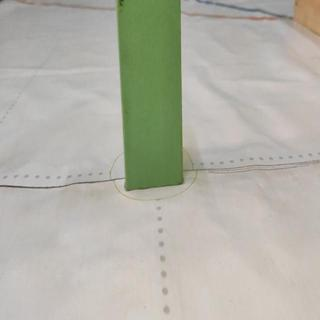greenbox: (115, 2, 188, 193)
